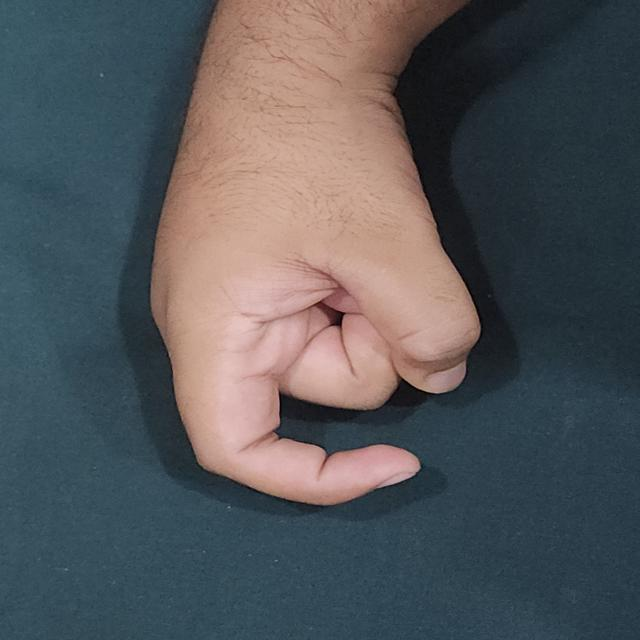ت: (107, 11, 531, 543)
